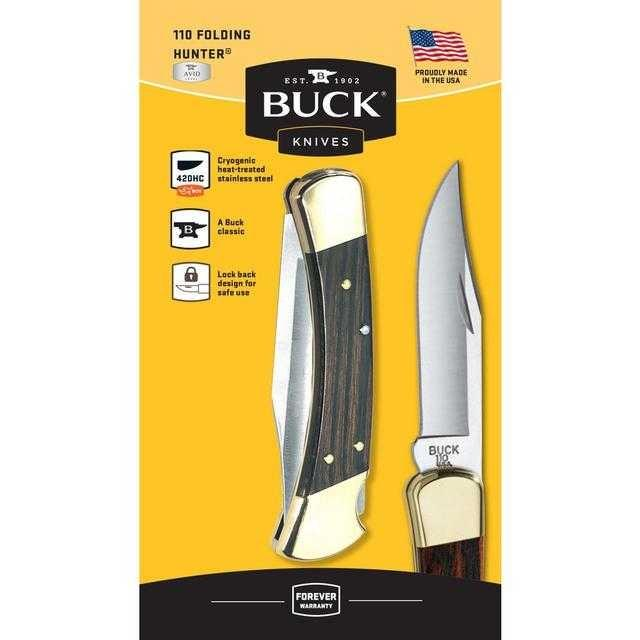Knife: (274, 159, 495, 603)
